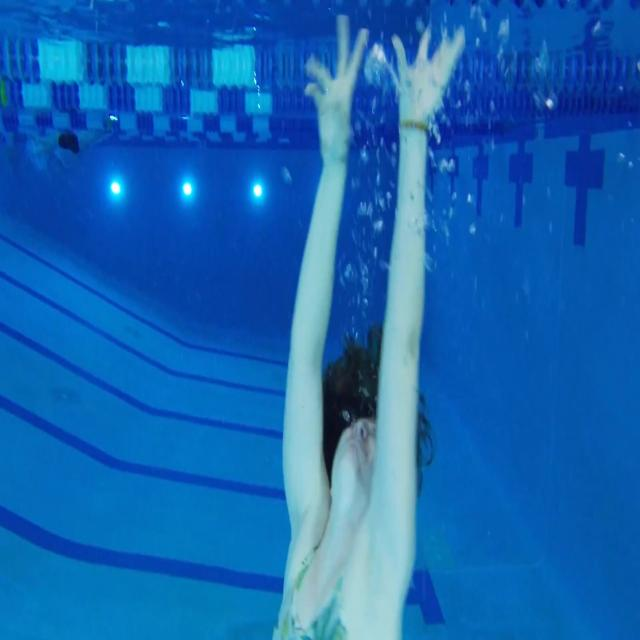drowning: (253, 18, 460, 640)
